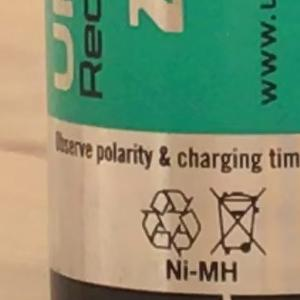keyword: (156, 251, 247, 291)
